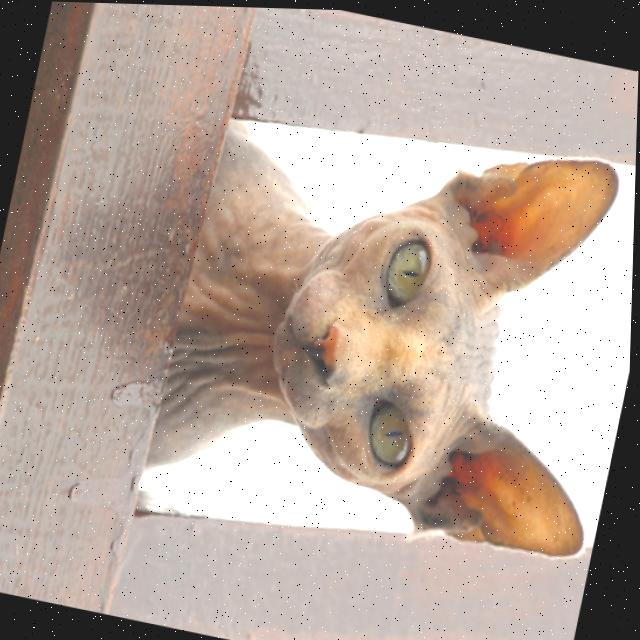Sphynx: (142, 65, 639, 572)
